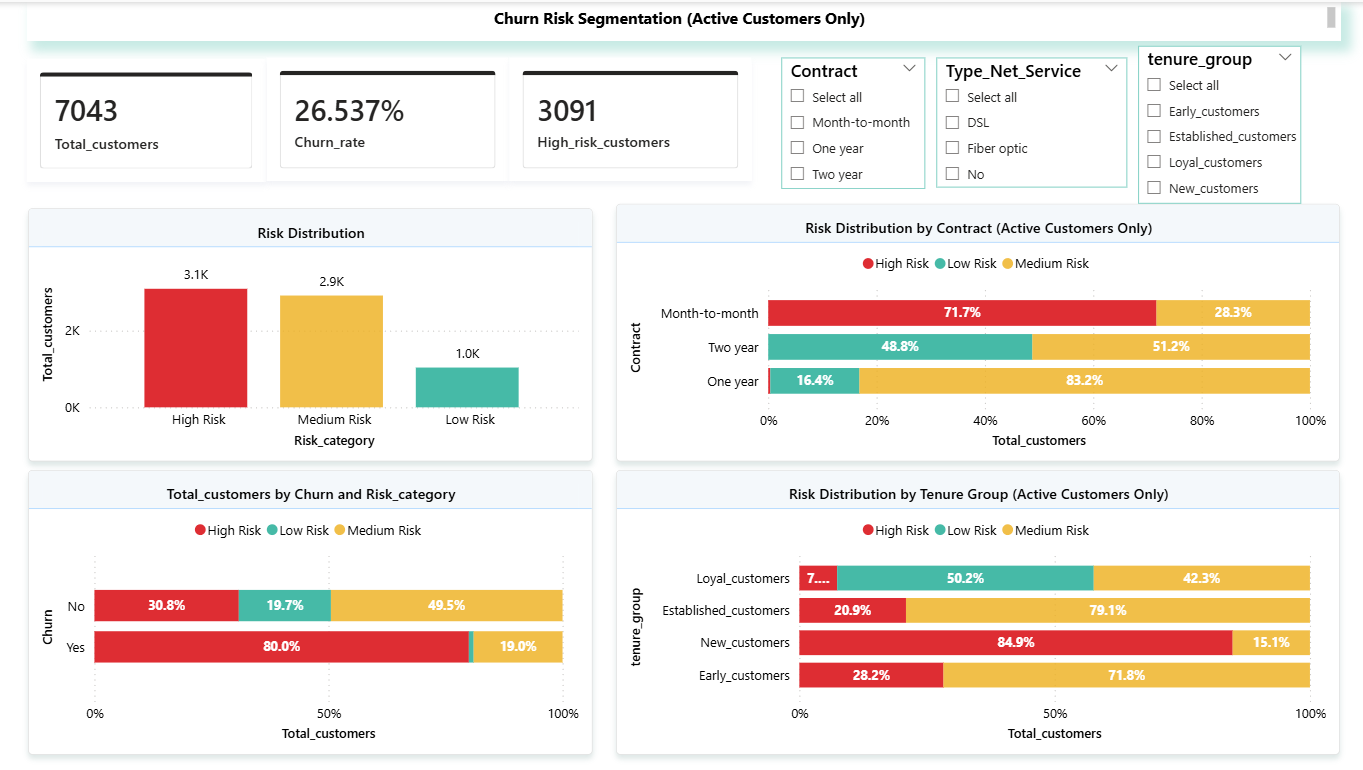

This screenshot's page, from the dashboard's own definition file:
{"tool":"powerbi","page":{"name":"Predictive","canvas":[1280,720],"ordinal":5},"visuals":[{"type":"textbox","box":[28.6,0,1223.8,36.5],"z":0},{"type":"cardVisual","fields":{"Data":["Customers_churn_dataset.Total_customers"]},"box":[28.6,52.7,222.7,114.4],"z":1000},{"type":"cardVisual","fields":{"Data":["Customers_churn_dataset.Churn_rate"]},"box":[252,52.4,225.8,115.1],"z":2000},{"type":"cardVisual","fields":{"Data":["Customers_churn_dataset.High_risk_customers"]},"box":[477.8,52.4,225.8,115.1],"z":3000},{"type":"columnChart","title":"Risk Distribution","fields":{"Category":["Customers_churn_dataset.Risk_category"],"Y":["Customers_churn_dataset.Total_customers"]},"box":[30.6,192.3,525.8,236],"z":4000},{"type":"hundredPercentStackedBarChart","fields":{"Category":["Customers_churn_dataset.Churn"],"Y":["Customers_churn_dataset.Total_customers"],"Series":["Customers_churn_dataset.Risk_category"]},"box":[30.6,435.5,525.8,265.1],"z":5000},{"type":"hundredPercentStackedBarChart","title":"Risk Distribution by Contract (Active Customers Only)","fields":{"Category":["Customers_churn_dataset.Contract"],"Series":["Customers_churn_dataset.Risk_category"],"Y":["Customers_churn_dataset.Total_customers"]},"box":[578.3,187.9,674.4,240.3],"z":6000},{"type":"hundredPercentStackedBarChart","title":"Risk Distribution by Tenure Group (Active Customers Only)","fields":{"Category":["Customers_churn_dataset.tenure_group"],"Y":["Customers_churn_dataset.Total_customers"],"Series":["Customers_churn_dataset.Risk_category"]},"box":[578.3,435.5,674.4,265.1],"z":7000},{"type":"slicer","fields":{"Values":["Customers_churn_dataset.Contract"]},"box":[731.2,52.4,134,122.4],"z":9000},{"type":"slicer","fields":{"Values":["Customers_churn_dataset.Type_Net_Service"]},"box":[875.4,52.4,177.7,120.9],"z":10000},{"type":"slicer","fields":{"Values":["Customers_churn_dataset.tenure_group"]},"box":[1064.8,40.8,151.5,147.1],"z":11000}]}

Visuals, with their boxes in screenshot pixels (x1, y1, x2, y2), scaled from the page's 1280x720 canvas onto the 1363x770 screenshot:
textbox: (30, 0, 1334, 39)
cardVisual - Customers_churn_dataset.Total_customers: (30, 56, 268, 179)
cardVisual - Customers_churn_dataset.Churn_rate: (268, 56, 509, 179)
cardVisual - Customers_churn_dataset.High_risk_customers: (509, 56, 749, 179)
"Risk Distribution" columnChart: (33, 206, 592, 458)
hundredPercentStackedBarChart - Customers_churn_dataset.Churn x Customers_churn_dataset.Total_customers: (33, 466, 592, 749)
"Risk Distribution by Contract (Active Customers Only)" hundredPercentStackedBarChart: (616, 201, 1334, 458)
"Risk Distribution by Tenure Group (Active Customers Only)" hundredPercentStackedBarChart: (616, 466, 1334, 749)
slicer - Customers_churn_dataset.Contract: (779, 56, 921, 187)
slicer - Customers_churn_dataset.Type_Net_Service: (932, 56, 1121, 185)
slicer - Customers_churn_dataset.tenure_group: (1134, 44, 1295, 201)
